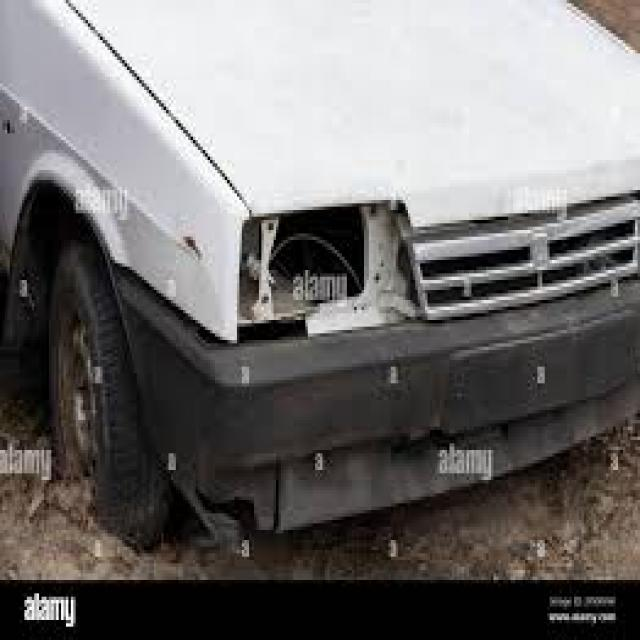damaged-head-light: (236, 208, 418, 328)
